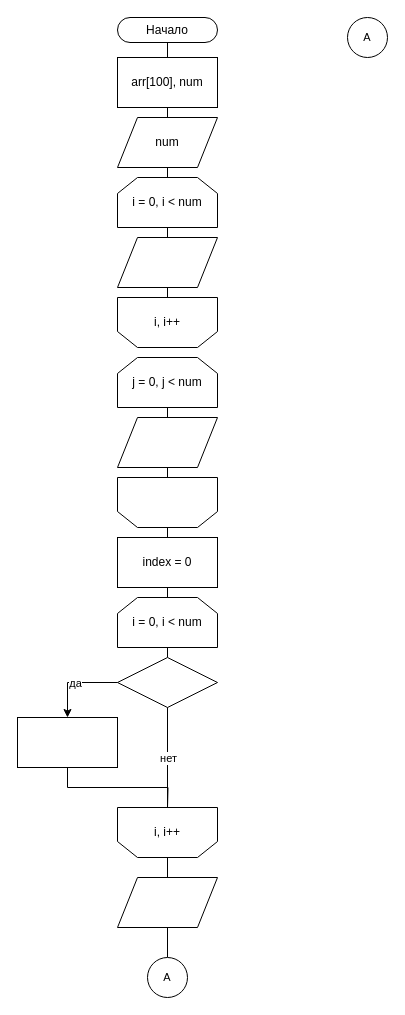
Some shapes in this 405 by 1015 pixel diagram are drawn without their labels. Each missing label, with the box of its shape:
arr[i]: (116, 236, 218, 288)
arr[i] < arr[index]: (116, 656, 218, 708)
arr[j]: (116, 416, 218, 468)
index: (116, 876, 218, 928)
index = i: (16, 716, 118, 768)
j, j++: (116, 476, 218, 528)
